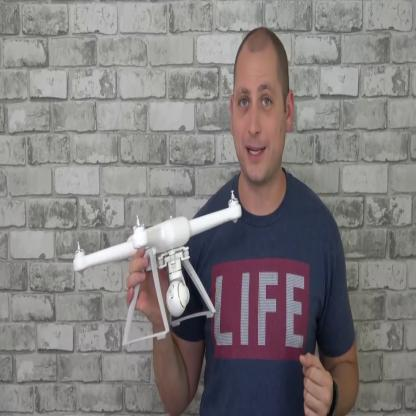drone: (71, 189, 243, 278)
